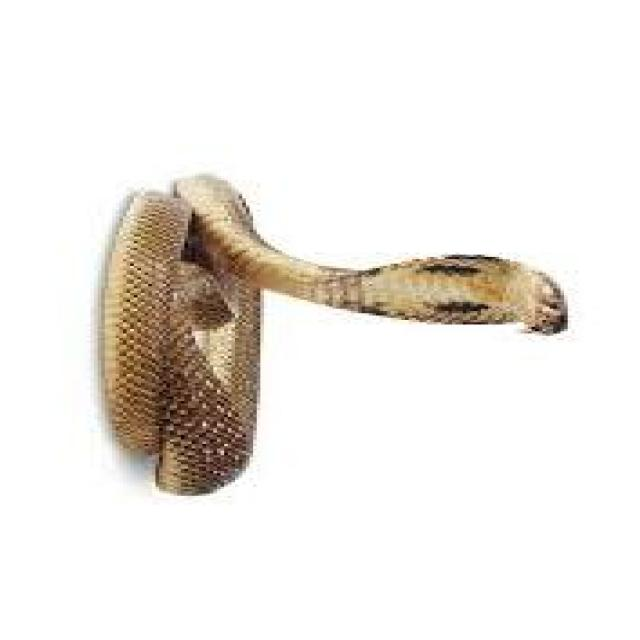Venomous: (376, 228, 570, 339)
